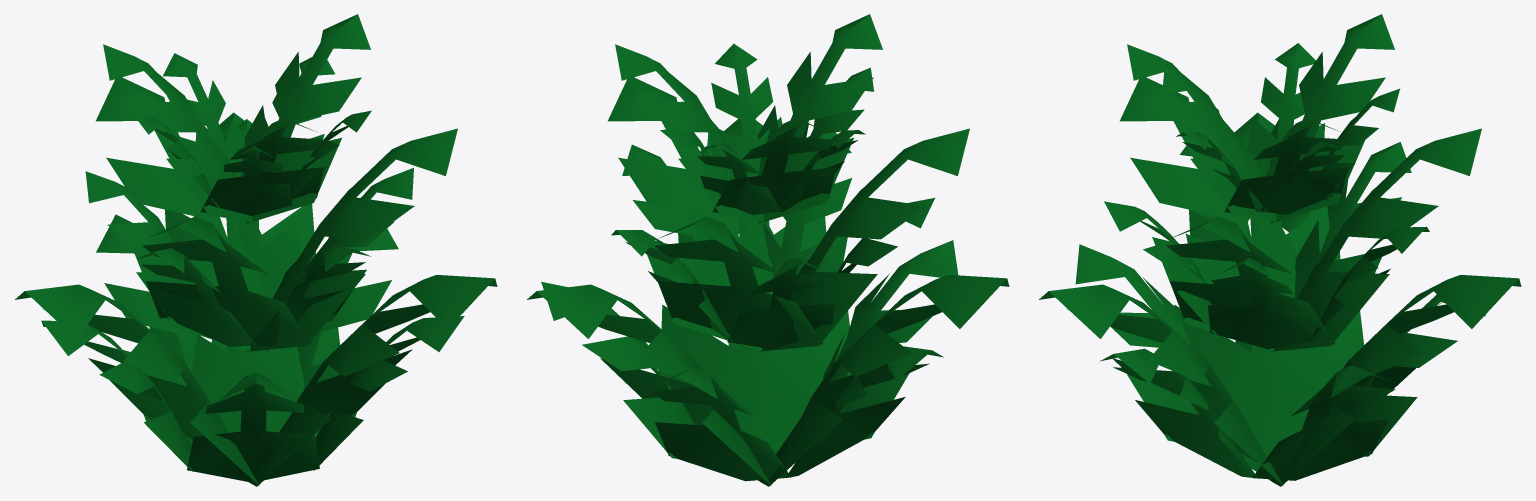
Rendered from Jungle.fbx.
The picture shows the model from 3 angles, left to right: view 1: azimuth 30°, elevation 25°; view 2: azimuth 150°, elevation 25°; view 3: azimuth 270°, elevation 25°; orthographic projection.
Parts seen in each view (by area): view 1: Extrude_7, Extrude_8, Extrude_6, Extrude_15, Extrude_14, Extrude_23, Extrude_3, Extrude_16, Extrude_22, Extrude_4, Extrude_2, Extrude_12 (+12 smaller); view 2: Extrude_7, Extrude_8, Extrude_16, Extrude_15, Extrude_6, Extrude_14, Extrude_24, Extrude_5, Extrude_3, Extrude_23, Extrude_4, Extrude_13 (+11 smaller); view 3: Extrude_8, Extrude_14, Extrude_16, Extrude_6, Extrude_7, Extrude_22, Extrude, Extrude_24, Extrude_2, Extrude_10, Extrude_15, Extrude_3 (+10 smaller).
Boxes of the visible parts, x1,y1,x2,y2 form: Extrude_7: [249, 275, 497, 486]; Extrude_8: [15, 284, 259, 485]; Extrude_6: [149, 112, 339, 482]; Extrude_15: [247, 128, 457, 351]; Extrude_14: [96, 77, 265, 352]; Extrude_23: [241, 14, 370, 223]; Extrude_3: [187, 372, 319, 482]; Extrude_16: [142, 216, 311, 344]; Extrude_22: [103, 44, 256, 222]; Extrude_4: [41, 320, 193, 471]; Extrude_2: [313, 316, 464, 470]; Extrude_12: [137, 248, 256, 346]; Extrude_7: [661, 119, 851, 482]; Extrude_8: [758, 275, 1009, 486]; Extrude_16: [759, 128, 969, 351]; Extrude_15: [608, 77, 780, 352]; Extrude_6: [527, 284, 771, 485]; Extrude_14: [654, 216, 823, 344]; Extrude_24: [757, 14, 882, 223]; Extrude_5: [650, 366, 791, 481]; Extrude_3: [823, 240, 958, 439]; Extrude_23: [615, 44, 768, 222]; Extrude_4: [785, 346, 943, 477]; Extrude_13: [727, 257, 834, 349]; Extrude_8: [1174, 112, 1363, 482]; Extrude_14: [1271, 128, 1481, 351]; Extrude_16: [1120, 77, 1296, 352]; Extrude_6: [1270, 275, 1521, 486]; Extrude_7: [1039, 284, 1283, 485]; Extrude_22: [1265, 14, 1394, 223]; Extrude: [1252, 365, 1395, 480]; Extrude_24: [1127, 44, 1280, 222]; Extrude_2: [1100, 348, 1258, 478]; Extrude_10: [1208, 257, 1314, 349]; Extrude_15: [1166, 216, 1335, 344]; Extrude_3: [1075, 244, 1210, 441].
Size of the model in its own units: 37.32 by 36.56 by 37.98.
